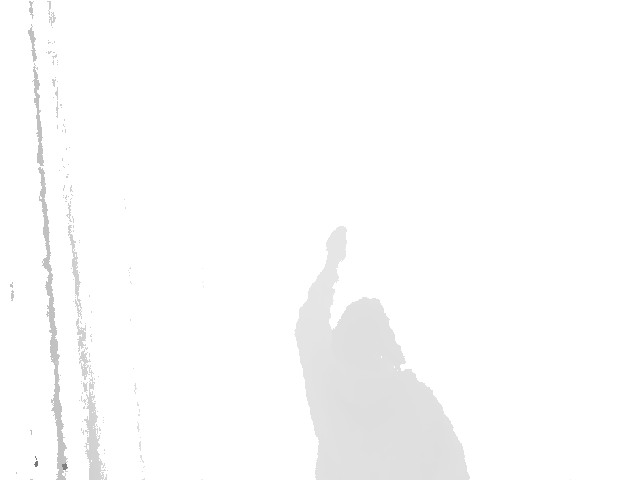hand: (323, 224, 349, 274)
head: (333, 298, 404, 370)
person: (295, 225, 469, 479)
